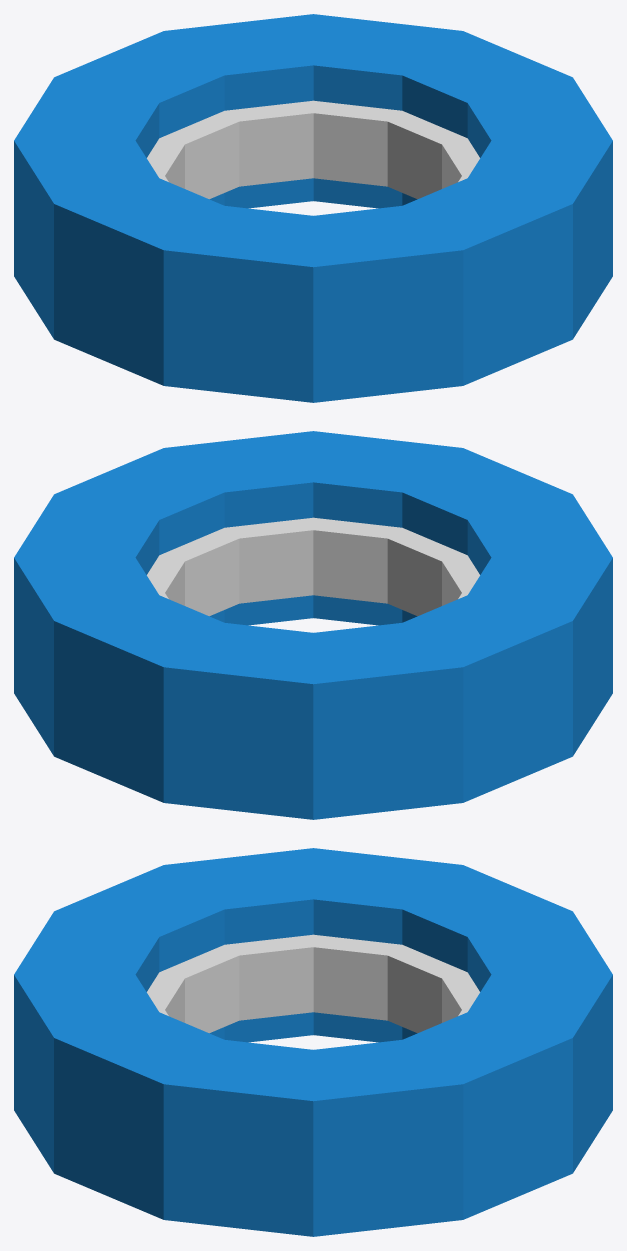
Rendered from tape.fbx.
The picture shows the model from 3 angles, top to bottom: view 1: azimuth 30°, elevation 25°; view 2: azimuth 150°, elevation 25°; view 3: azimuth 270°, elevation 25°; orthographic projection.
Visible parts, largest first — view 1: Cylinder, Cylinder.001; view 2: Cylinder, Cylinder.001; view 3: Cylinder, Cylinder.001.
Boxes of the visible parts, x1,y1,x2,y2 form: Cylinder: [14, 14, 612, 402]; Cylinder.001: [147, 100, 479, 199]; Cylinder: [14, 431, 612, 819]; Cylinder.001: [147, 517, 479, 616]; Cylinder: [14, 848, 612, 1236]; Cylinder.001: [147, 934, 479, 1033].
Bounding box in the file's own units: 200 × 50 × 200.
